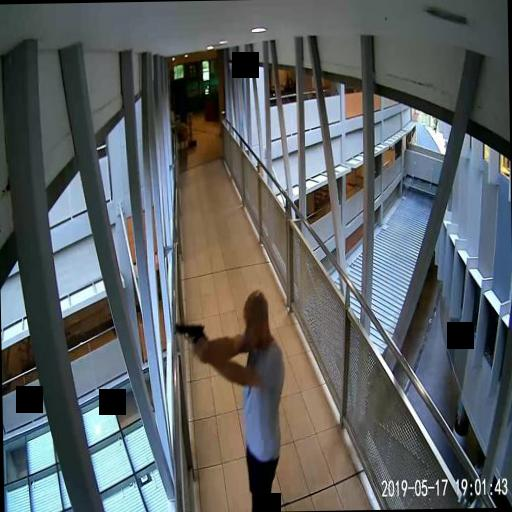Handgun: (173, 320, 204, 356)
